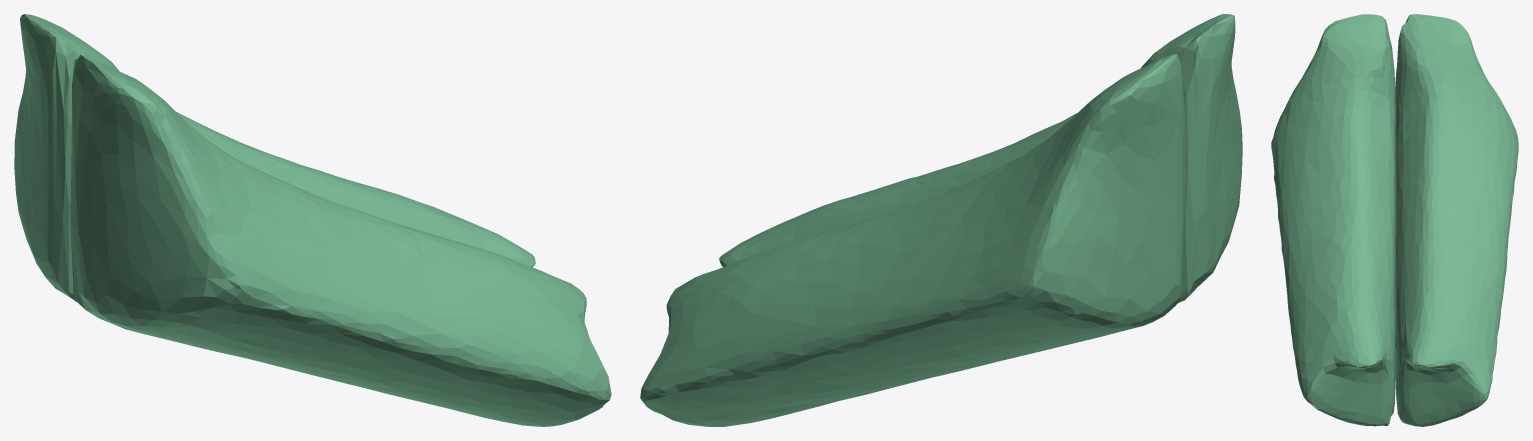
The picture shows the model from 3 angles, left to right: view 1: azimuth 30°, elevation 25°; view 2: azimuth 150°, elevation 25°; view 3: azimuth 270°, elevation 25°; orthographic projection. The views are drawn at different scales.
Visible parts, largest first — view 1: 48.obj; view 2: 48.obj; view 3: 48.obj.
Boxes of the visible parts, x1,y1,x2,y2 form: 48.obj: [14, 14, 611, 426]; 48.obj: [640, 14, 1242, 426]; 48.obj: [1271, 14, 1518, 426].
Bounding box in the file's own units: 2413 × 2205 × 1744.
